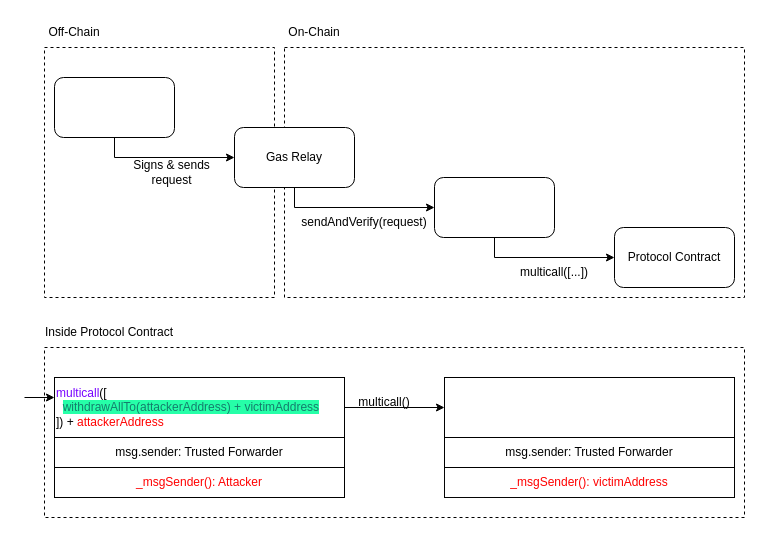
This 762x535 diagram has some shape labels left out. The shapes that lost their labels are listed below. From the top down, each one's centre as x and y in pixels, then its label:
(x=114, y=107): Attacker
(x=494, y=207): Trusted Forwarder
(x=589, y=407): withdrawAllTo ( attackerAddress ) + victimAddress
